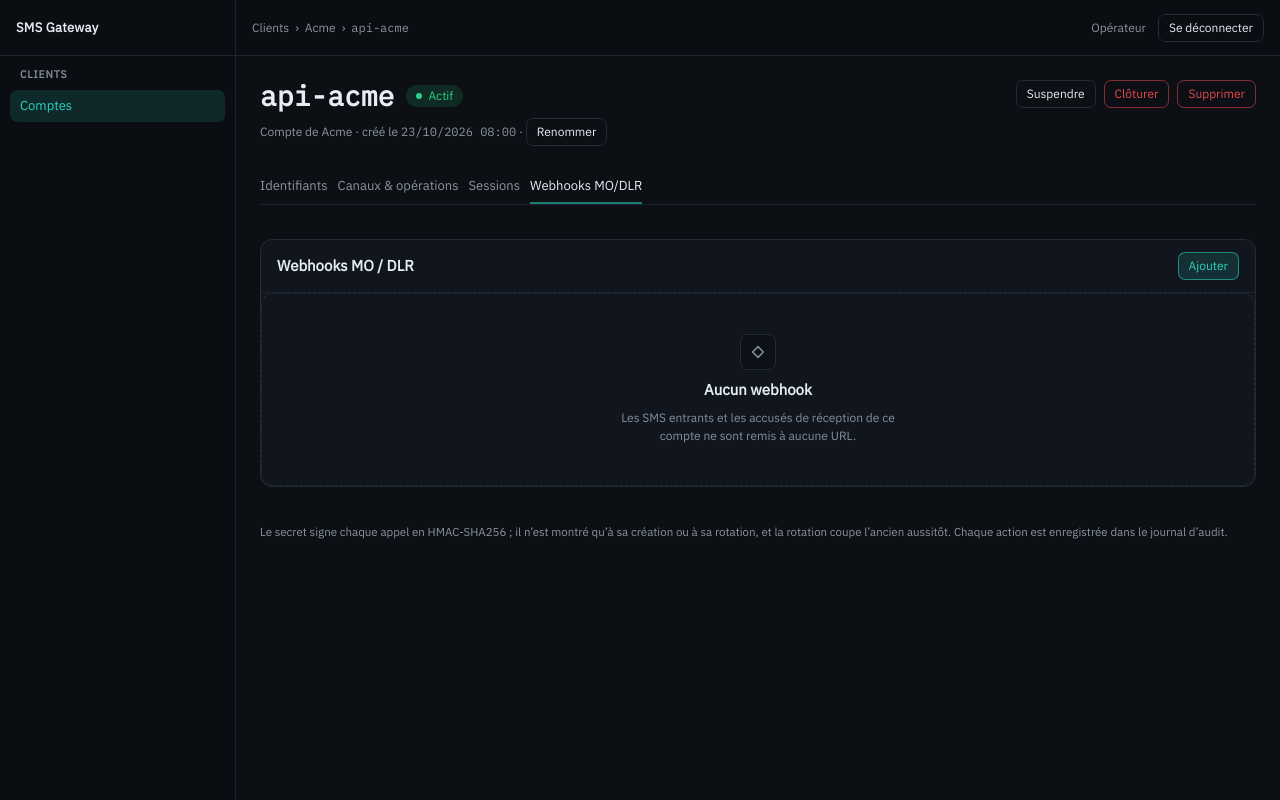
Test: a taken event, a closed account and an unavailable sealing are said in French
Click the button "Ajouter": (1208, 266) [1178, 252, 1239, 280]
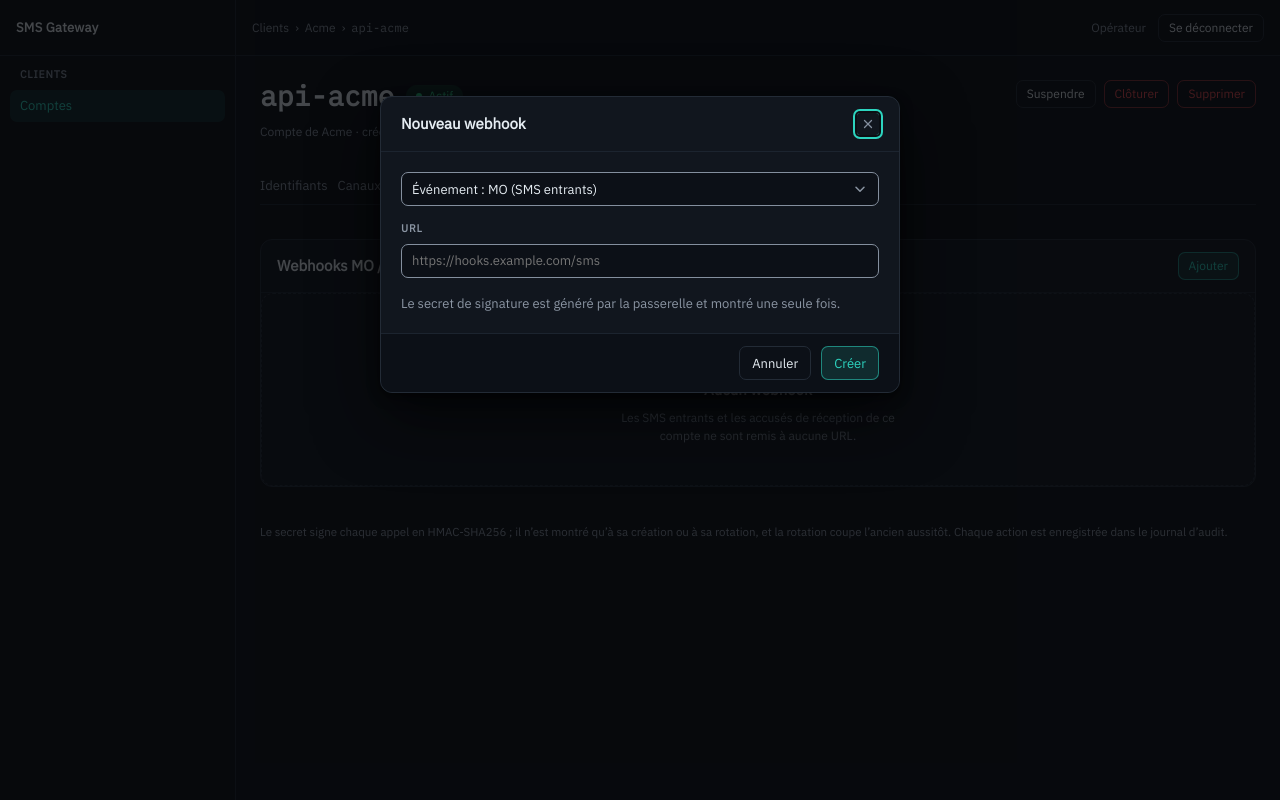
In the field labelled "URL": (640, 261) [401, 244, 879, 278], type "https://hooks.example.com/mo"
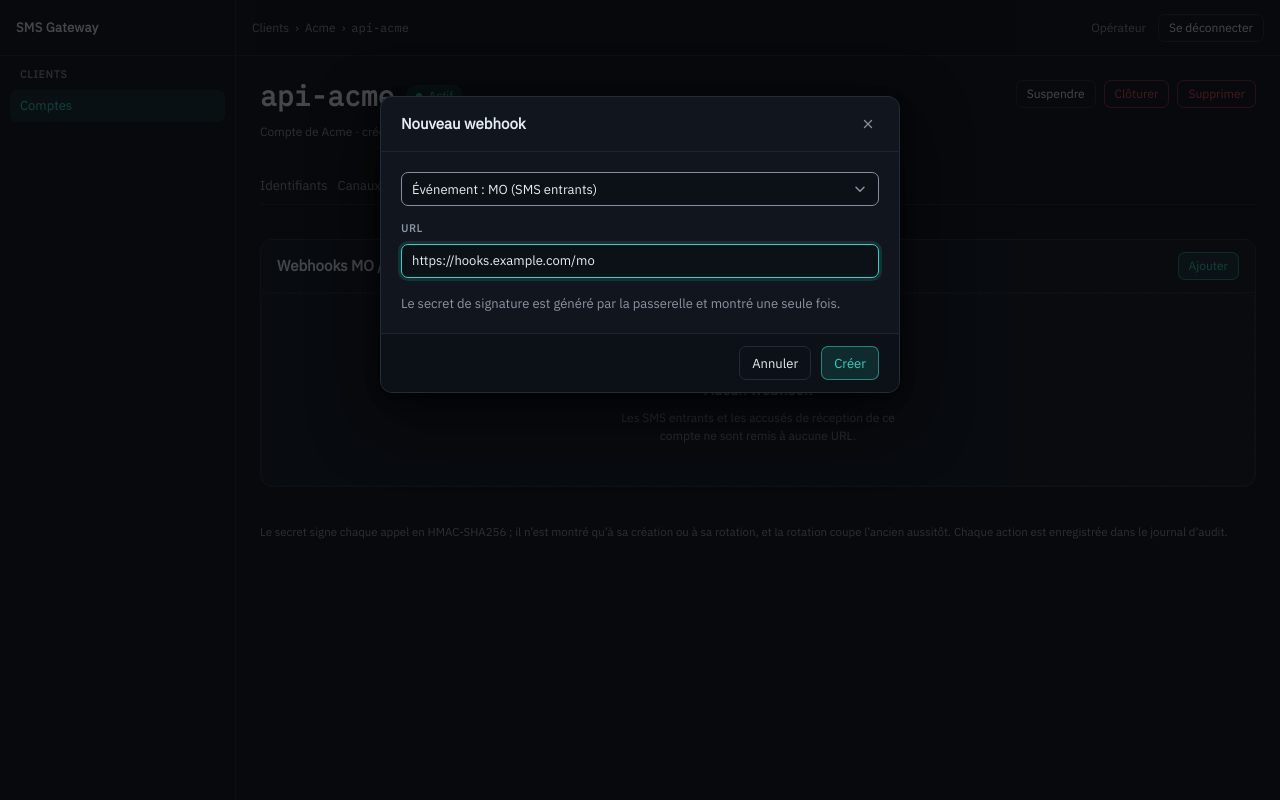
Click the button "Créer": (850, 363) [821, 346, 879, 380]
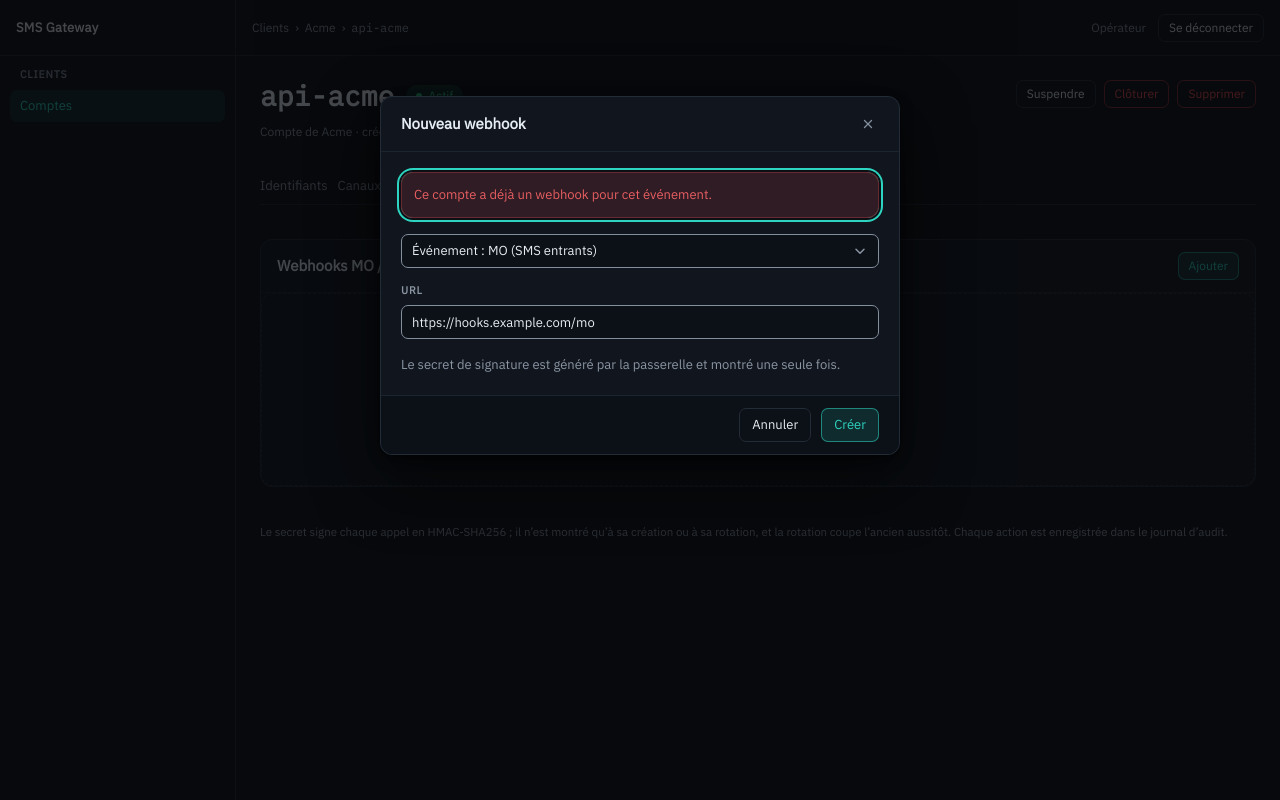
Expected: the text "Ce compte a déjà un webhook pour cet événement." is shown, [401, 172, 879, 218]
Click the button "Créer": (850, 425) [821, 408, 879, 442]
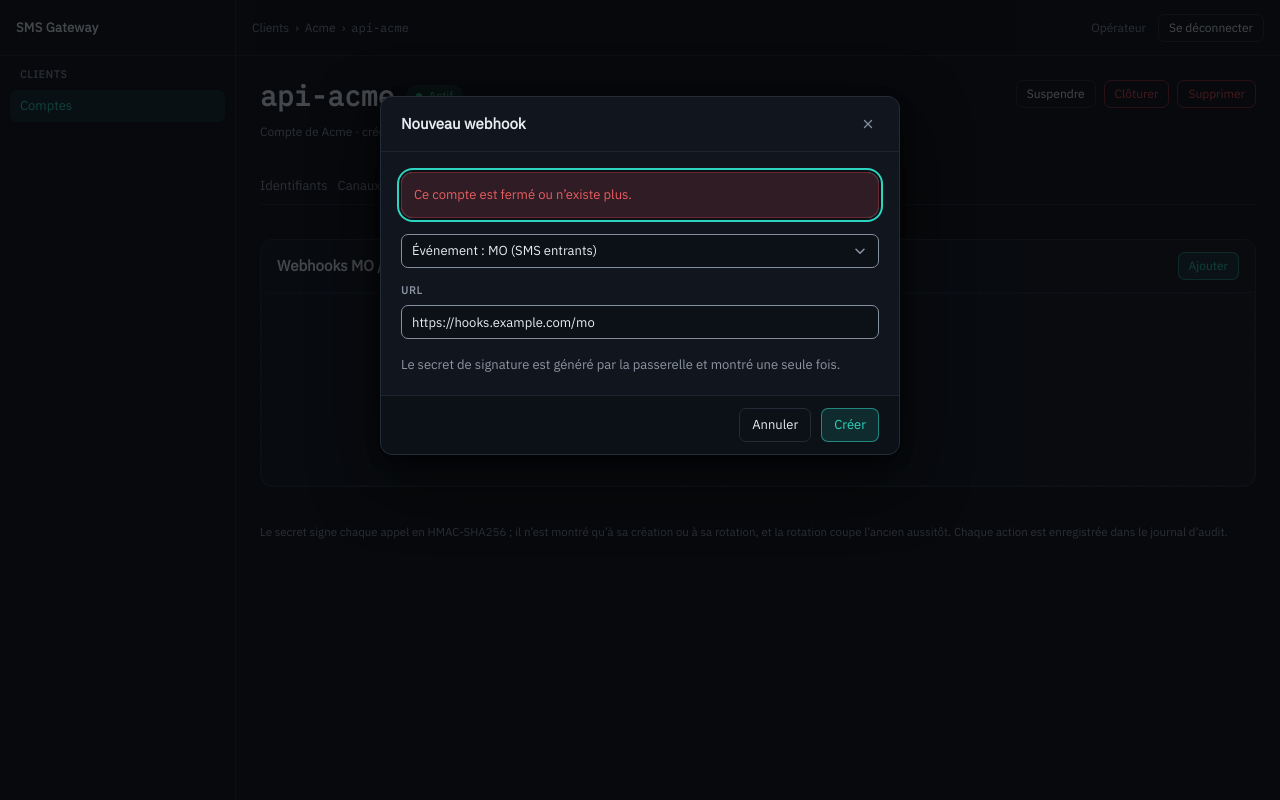
Expected: the text "Ce compte est fermé ou n’existe plus." is shown, [401, 172, 879, 218]
Click the button "Créer": (850, 425) [821, 408, 879, 442]
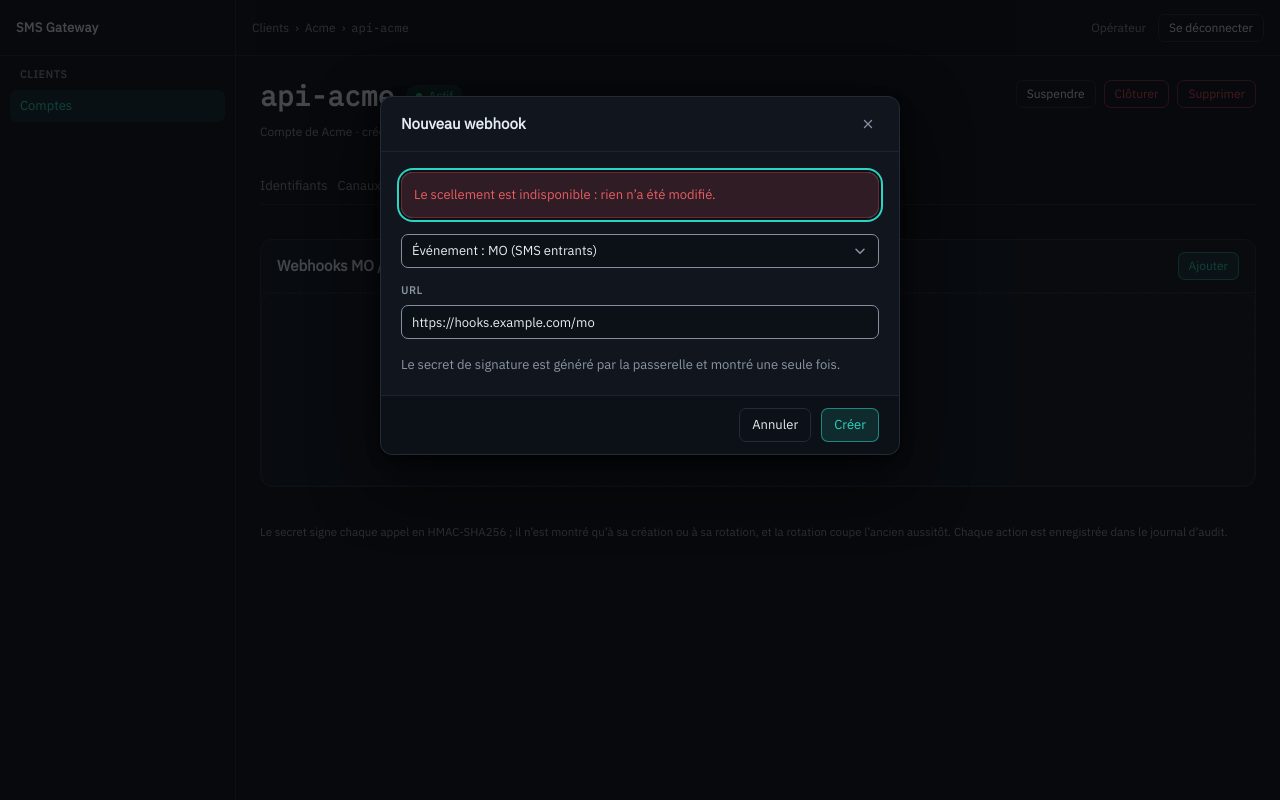
Expected: the text "Le scellement est indisponible : rien n’a été modifié." is shown, [401, 172, 879, 218]
